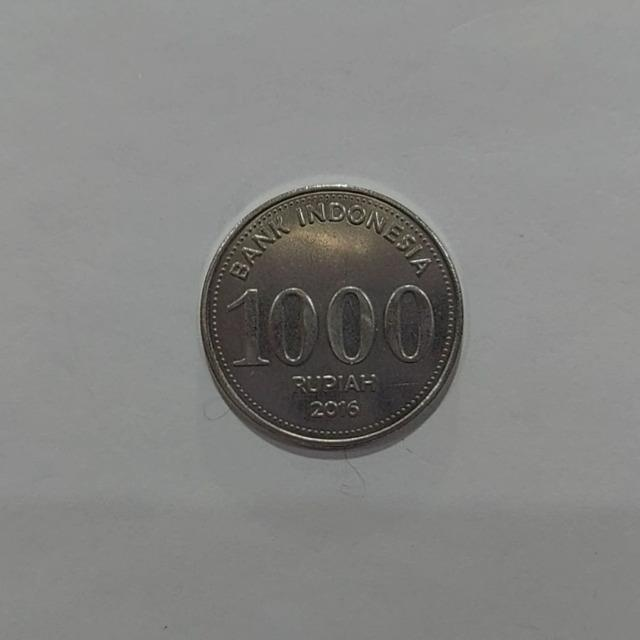Rp100: (197, 182, 465, 458)
